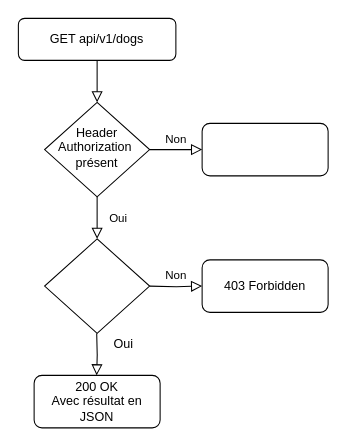
Image size: 346x446. Some labels were removed from this diagram. The shapes that lost their labels are listed below. From the top down, each one's box as (x1, y1, x2, y2) in pixels, then its label:
(201, 122, 328, 176): 401 Unauthorized
(44, 238, 150, 333): Utilisateur administrateur
